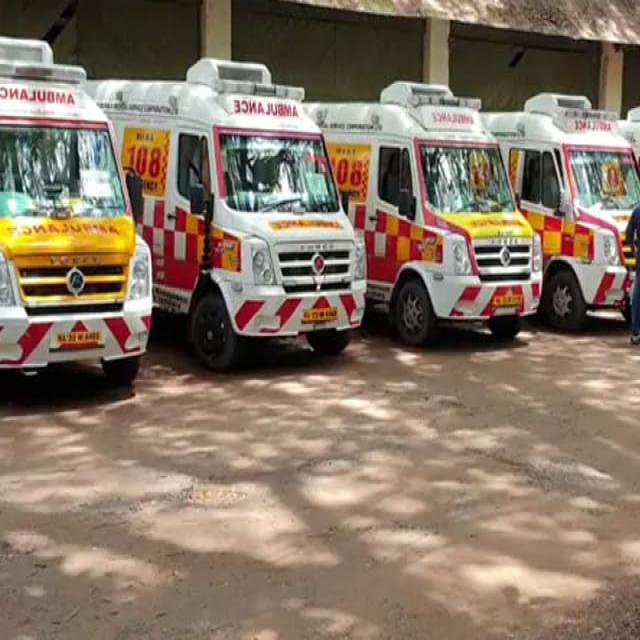ambulance: (77, 56, 366, 358), (302, 81, 542, 340), (0, 36, 150, 392), (473, 91, 640, 320)
